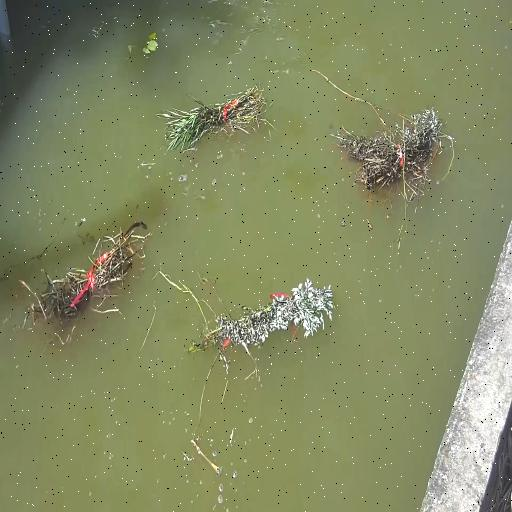twig: (12, 220, 136, 331), (198, 282, 346, 370), (347, 103, 442, 207), (162, 84, 272, 154), (125, 28, 160, 61)
